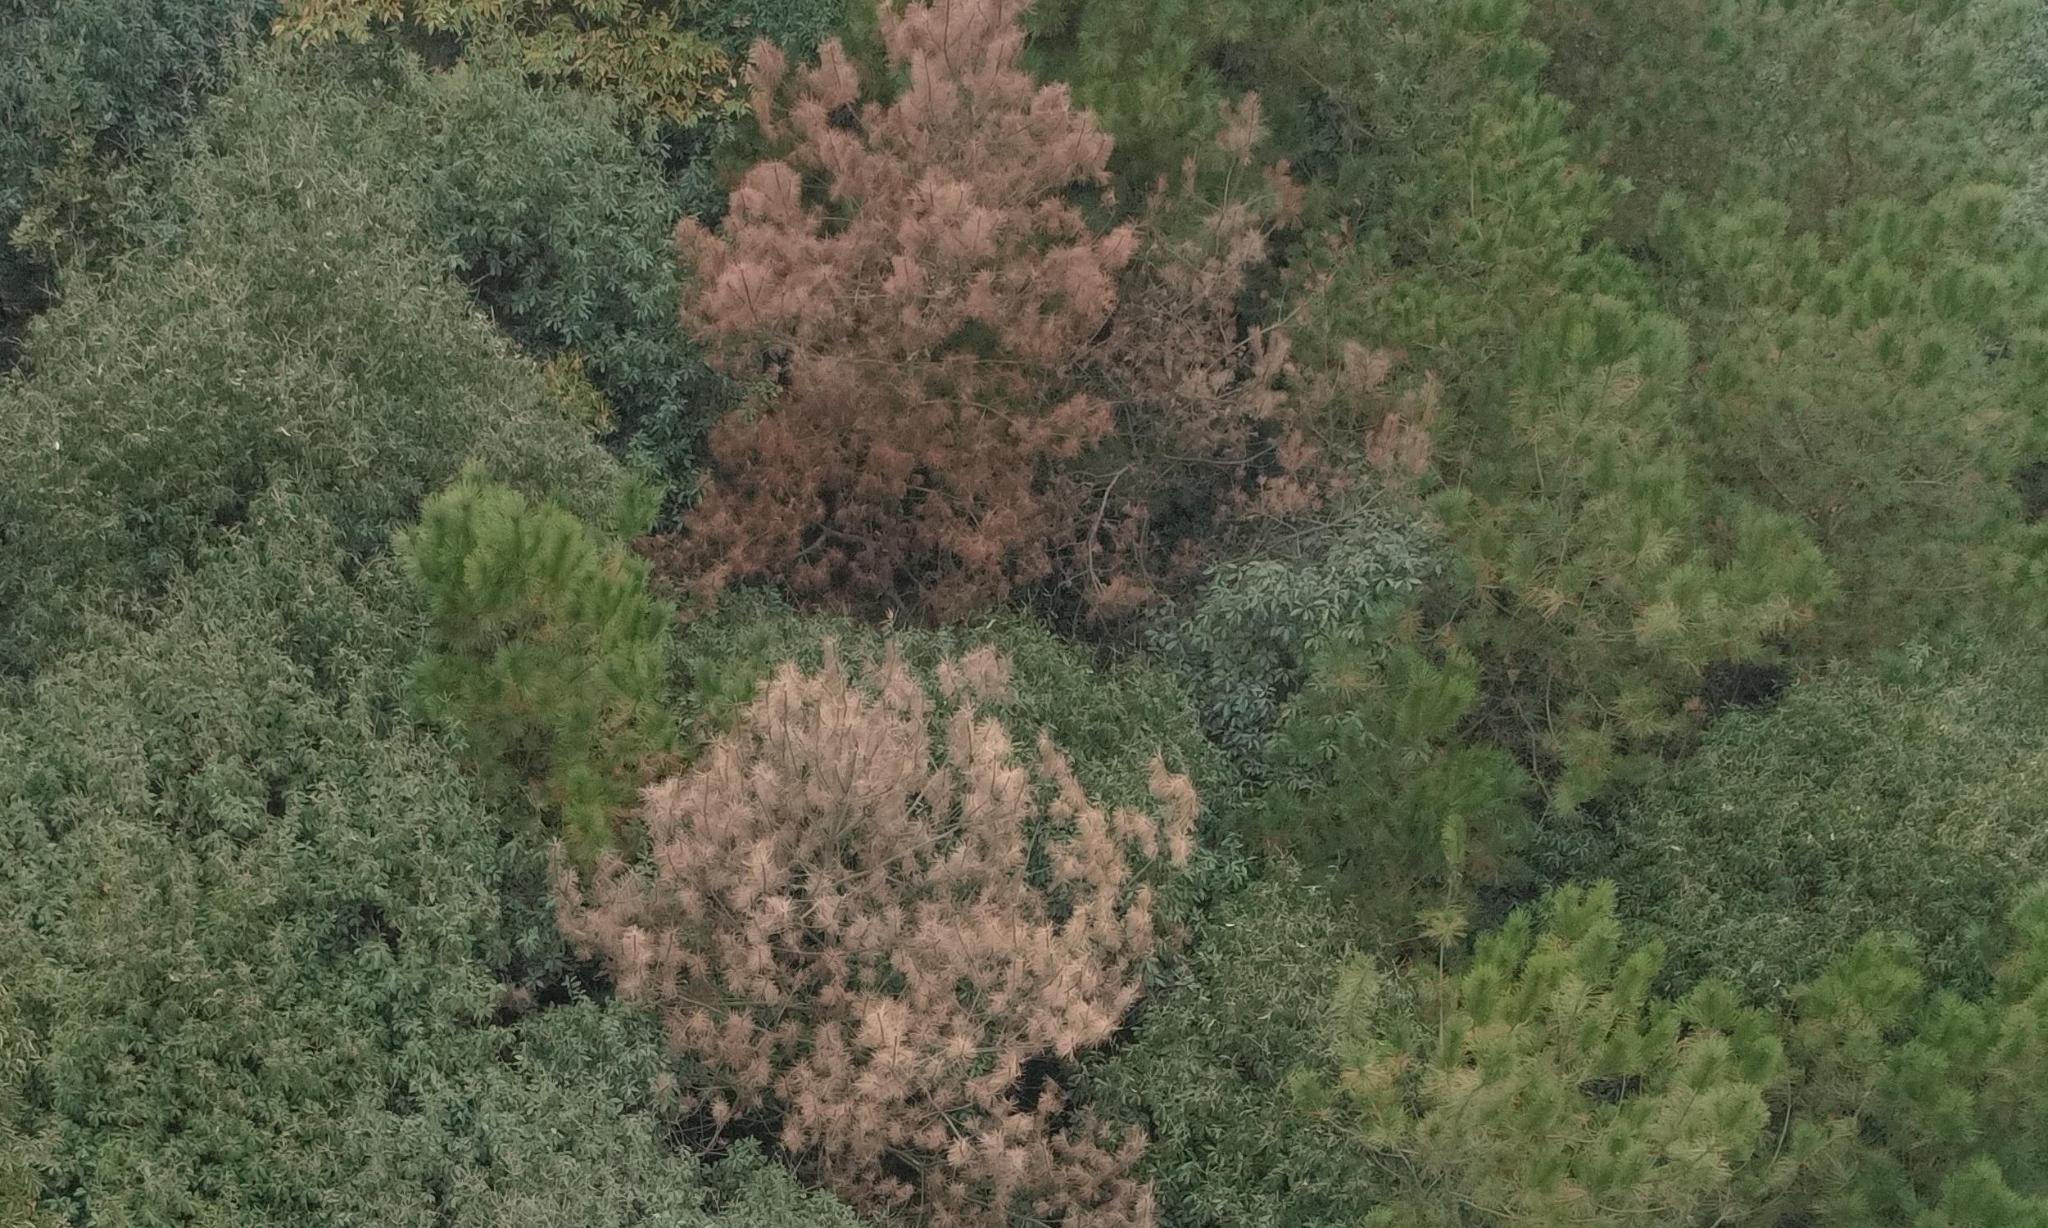heavy: (664, 13, 1292, 582), (572, 633, 1165, 1216)
